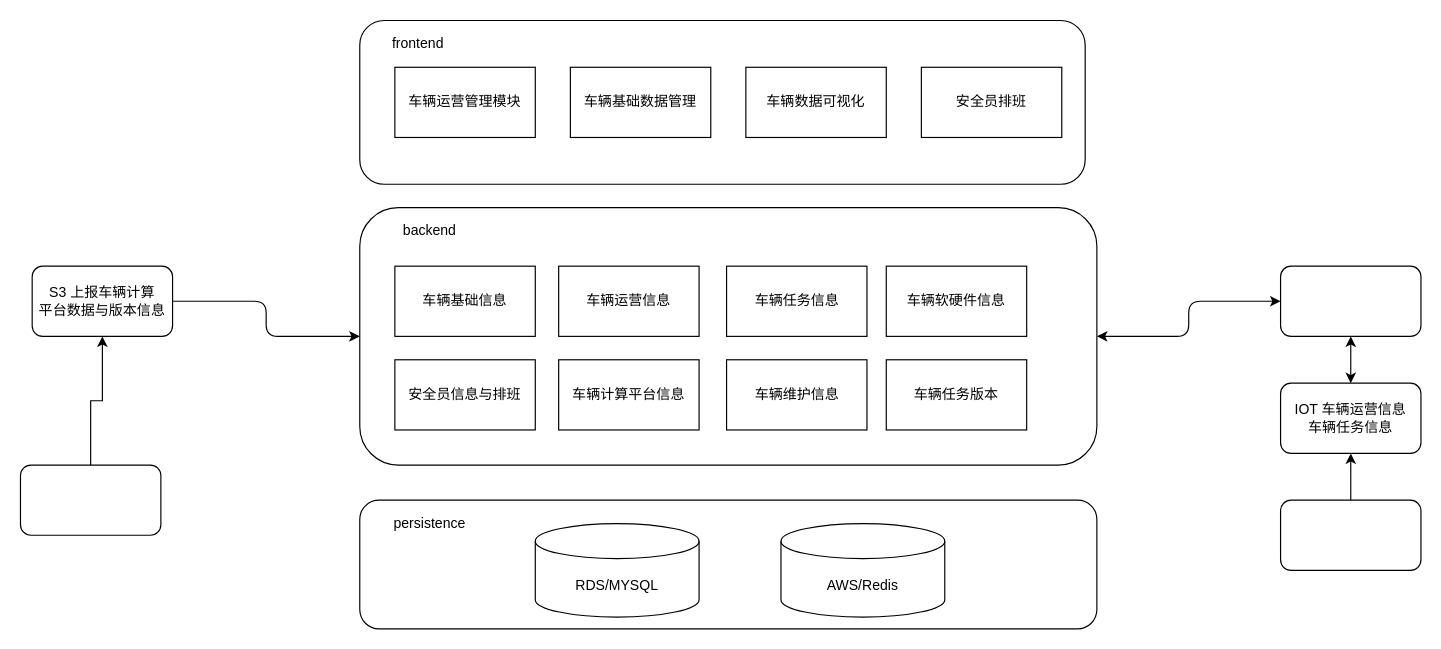
This 1441x649 diagram has some shape labels left out. Here are the shapes that lost their labels. From the top down, the centre of each, then its label:
At [1350,300]: "Server less (车辆运营信息 API)".
At [90,499]: "车端".
At [1350,534]: "车端服务".
